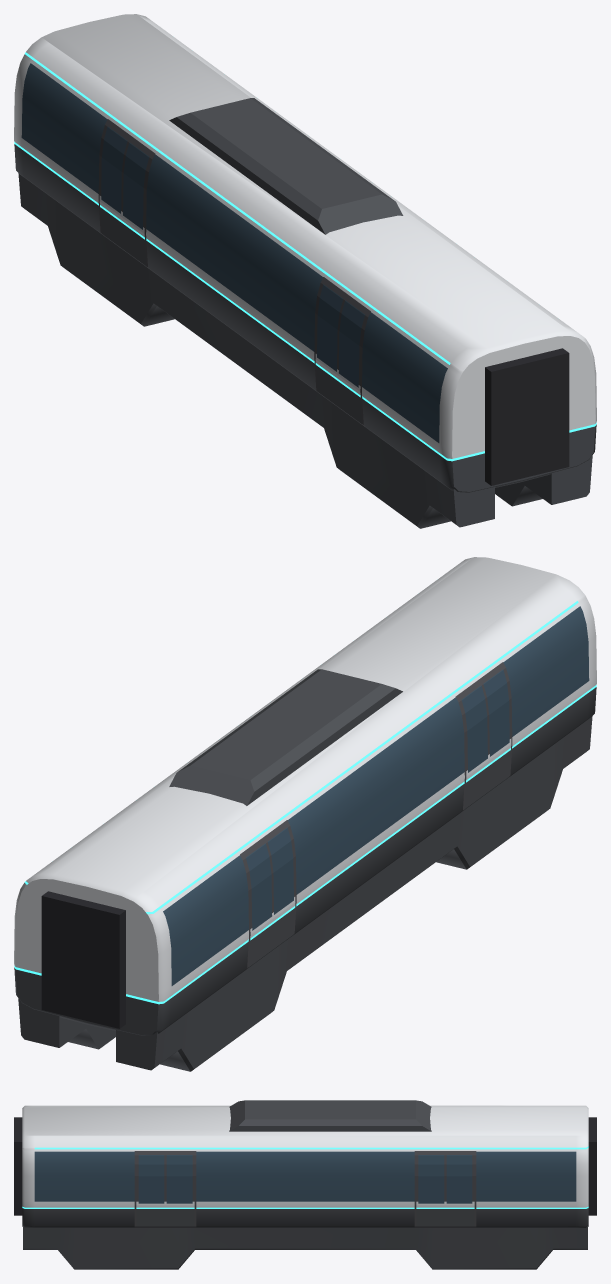
The picture shows the model from 3 angles, top to bottom: view 1: azimuth 30°, elevation 25°; view 2: azimuth 150°, elevation 25°; view 3: azimuth 270°, elevation 25°; orthographic projection. The views are drawn at different scales.
Visible parts, largest first — view 1: 319; view 2: 319; view 3: 319.
Boxes of the visible parts, box(x1,y1,x2,y2) form: 319: box(14, 14, 596, 528); 319: box(14, 557, 596, 1071); 319: box(14, 1100, 596, 1269).
Bounding box in the file's own units: 2.72 × 3.7 × 14.
